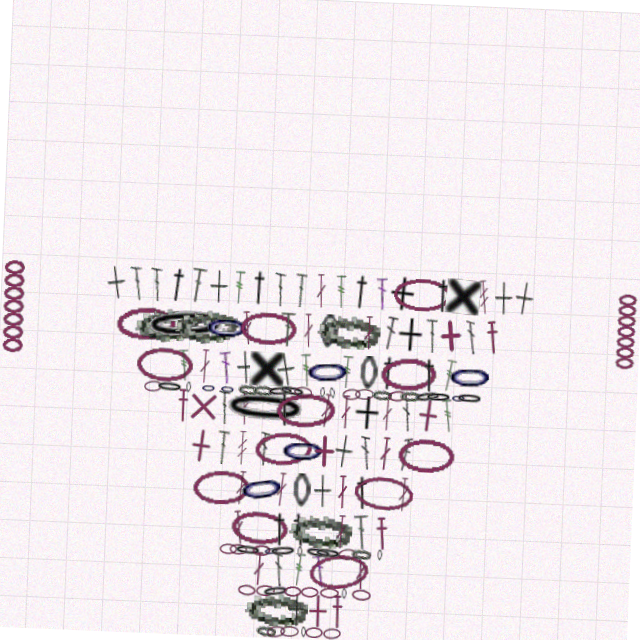chain: (143, 311, 230, 350), (226, 392, 312, 429), (134, 311, 200, 351), (174, 311, 240, 351), (318, 550, 381, 591), (360, 472, 421, 510), (279, 392, 339, 429), (318, 313, 381, 348), (239, 512, 298, 549), (259, 432, 318, 469), (116, 313, 176, 349), (257, 594, 320, 628), (298, 514, 361, 548), (243, 470, 295, 511), (199, 473, 257, 509), (382, 353, 440, 389), (138, 353, 196, 388), (392, 274, 451, 308), (403, 434, 461, 468), (240, 314, 298, 348), (306, 353, 354, 389), (449, 353, 496, 388), (285, 434, 332, 468), (204, 314, 251, 348), (320, 314, 339, 348), (300, 474, 318, 508), (362, 354, 380, 388), (281, 385, 309, 400), (417, 385, 445, 400), (273, 586, 301, 600), (314, 546, 342, 560), (279, 546, 306, 559), (244, 547, 271, 559), (324, 547, 351, 559), (159, 387, 186, 399), (270, 387, 297, 399), (428, 387, 455, 398), (459, 387, 486, 398), (279, 626, 299, 640), (269, 627, 289, 639), (363, 587, 382, 599), (348, 547, 367, 559), (345, 387, 364, 399), (391, 387, 410, 399), (361, 547, 381, 558), (241, 387, 261, 398), (256, 387, 276, 398), (375, 387, 395, 398), (403, 387, 423, 398), (336, 627, 354, 639), (249, 587, 267, 599), (147, 387, 165, 399), (297, 387, 315, 399), (293, 627, 312, 638), (267, 587, 286, 598), (331, 587, 350, 598), (358, 387, 377, 398), (273, 546, 289, 559), (318, 627, 336, 638), (295, 587, 313, 598), (312, 587, 330, 598), (229, 547, 247, 558), (239, 547, 257, 558), (262, 547, 280, 558), (223, 387, 238, 399), (204, 387, 219, 398), (454, 387, 469, 398), (332, 387, 339, 398), (314, 627, 319, 638), (353, 587, 358, 598), (307, 547, 312, 558), (387, 547, 392, 558), (189, 387, 194, 398), (323, 387, 328, 398)
double: (187, 273, 206, 308), (362, 513, 379, 548), (322, 553, 338, 588), (383, 313, 399, 348), (128, 273, 144, 308), (240, 513, 255, 548), (220, 434, 235, 468), (281, 314, 296, 348), (404, 433, 418, 468), (323, 393, 337, 428), (241, 474, 255, 508), (221, 354, 235, 388), (241, 314, 255, 348), (292, 274, 306, 308), (282, 474, 295, 508), (404, 474, 417, 508), (384, 434, 397, 468), (149, 274, 162, 308), (263, 554, 275, 588), (365, 554, 377, 588), (344, 514, 356, 548), (263, 434, 275, 468), (222, 394, 234, 428), (242, 394, 254, 428), (385, 394, 397, 428), (201, 354, 213, 388), (303, 314, 315, 348), (426, 314, 438, 348), (466, 314, 478, 348), (273, 274, 285, 308), (314, 274, 326, 308), (375, 274, 387, 308), (344, 474, 355, 508), (344, 394, 355, 428), (364, 314, 375, 348), (284, 554, 294, 588), (366, 434, 376, 468), (406, 394, 415, 428)
enseble_chain: (0, 272, 27, 367), (615, 281, 637, 358)
half_double: (165, 273, 188, 309), (349, 273, 371, 308), (298, 513, 319, 548), (380, 353, 401, 388), (248, 273, 268, 308), (432, 274, 452, 308), (279, 514, 298, 548), (360, 474, 379, 508), (279, 394, 298, 428), (422, 354, 441, 388), (485, 313, 501, 348), (383, 514, 398, 548), (343, 594, 356, 628), (180, 394, 193, 428)
single: (188, 432, 225, 469), (433, 312, 470, 349), (414, 393, 450, 429), (444, 273, 480, 309), (313, 594, 347, 628), (313, 434, 347, 468), (190, 394, 224, 428), (252, 354, 286, 388), (387, 273, 415, 308), (357, 394, 384, 428), (397, 314, 424, 348), (277, 353, 300, 389), (104, 273, 127, 309), (339, 433, 360, 468), (513, 273, 534, 308), (238, 353, 258, 388), (300, 594, 318, 628), (321, 474, 339, 508), (209, 274, 227, 308), (494, 274, 512, 308)
treble: (443, 353, 460, 388), (444, 393, 460, 428), (179, 354, 194, 388), (302, 553, 316, 588), (476, 273, 490, 308), (302, 354, 315, 388), (343, 354, 356, 388), (232, 274, 244, 308), (334, 274, 346, 308), (242, 434, 253, 468)
